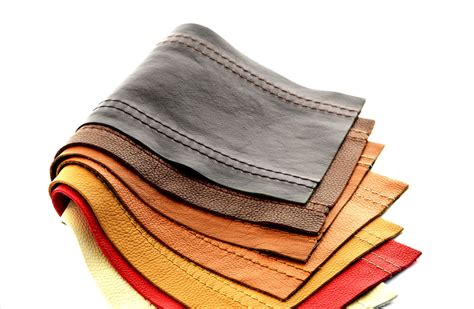cuero: (45, 21, 422, 309)
